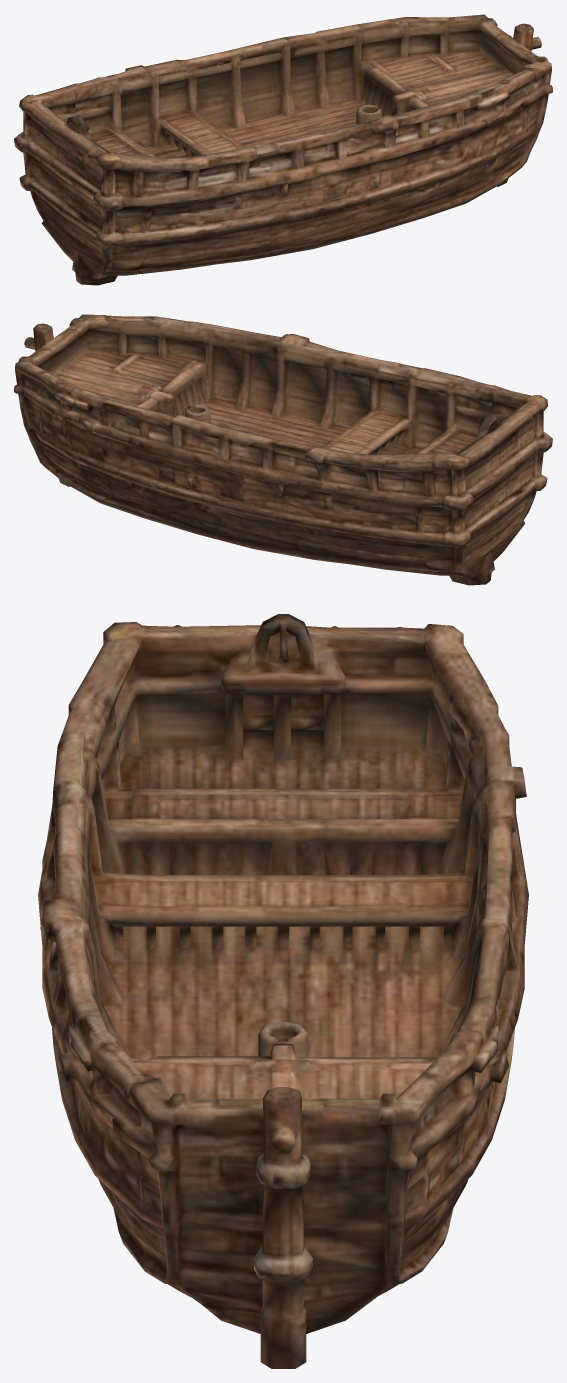
Rendered from arca.glb.
3 views of the same model, one above another, from view 1: azimuth 30°, elevation 25°; view 2: azimuth 150°, elevation 25°; view 3: azimuth 270°, elevation 25° (orthographic). The views are drawn at different scales.
Parts seen in each view (by area): view 1: tripo_node_3785f5aa-2007-4256-9418-dc0ba8fe87a9; view 2: tripo_node_3785f5aa-2007-4256-9418-dc0ba8fe87a9; view 3: tripo_node_3785f5aa-2007-4256-9418-dc0ba8fe87a9.
Part boxes in pixels (bbox=[...]): tripo_node_3785f5aa-2007-4256-9418-dc0ba8fe87a9: bbox=[14, 14, 552, 285]; tripo_node_3785f5aa-2007-4256-9418-dc0ba8fe87a9: bbox=[14, 314, 552, 585]; tripo_node_3785f5aa-2007-4256-9418-dc0ba8fe87a9: bbox=[38, 614, 528, 1368].
Size of the model in its own units: 0.9771 by 0.3308 by 0.4303.
Materials: 1 (1 with a texture image).
